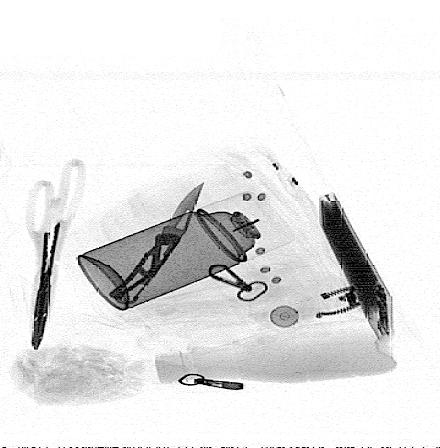Knife: (110, 181, 206, 304)
Powerbank: (317, 192, 393, 339)
Scissors: (25, 160, 87, 350)
Sprayer: (76, 192, 295, 309)
